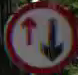Two way: (4, 1, 77, 73)
